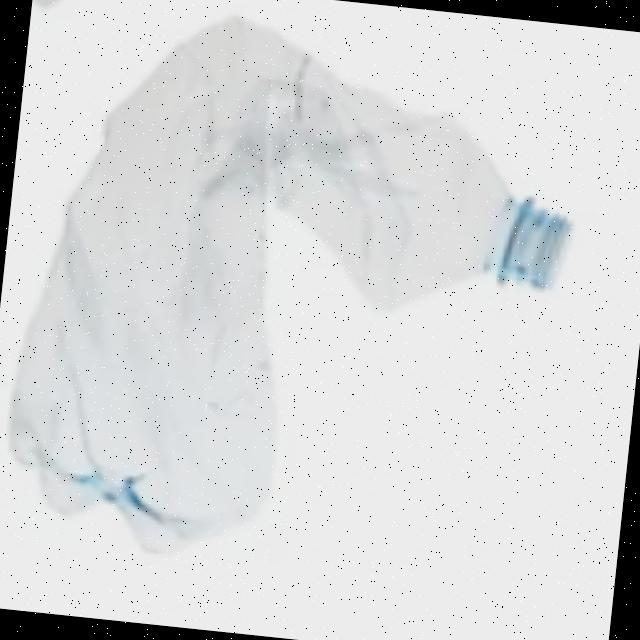Plastic: (0, 0, 607, 606), (0, 0, 44, 547)
